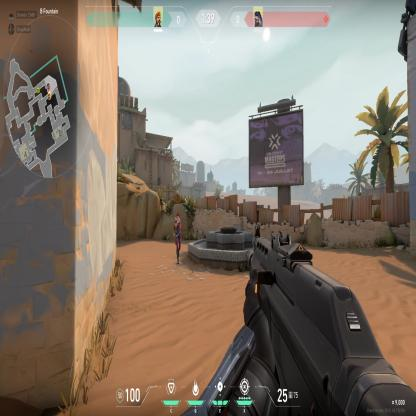enemy: (174, 211, 182, 267)
